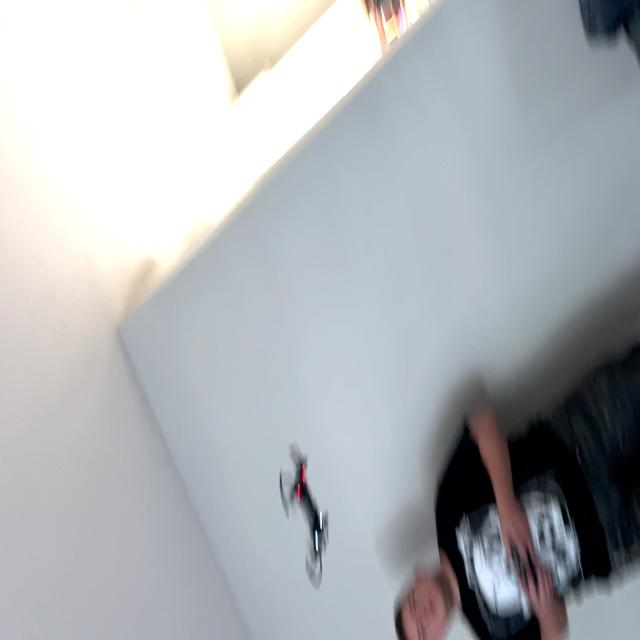drone: (276, 422, 338, 598)
